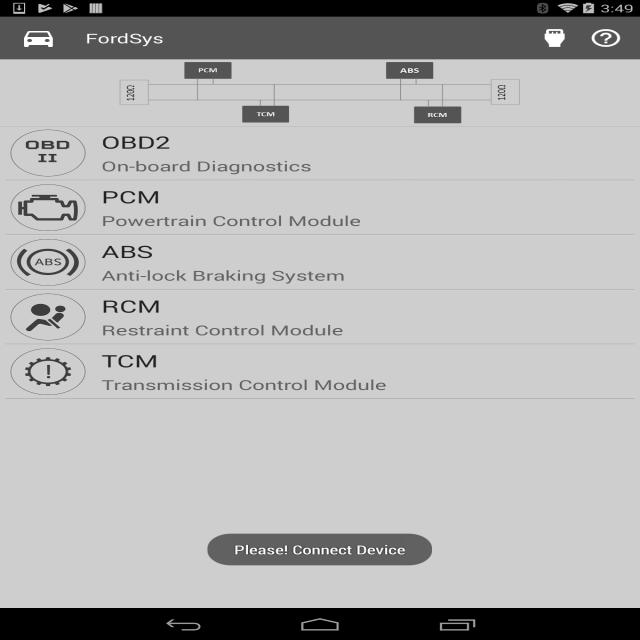ImageButton: (538, 28, 576, 56), (590, 25, 624, 50)
ImageView: (111, 61, 526, 126), (11, 127, 82, 173), (15, 187, 86, 226), (10, 244, 84, 280), (18, 298, 80, 334), (18, 355, 80, 388), (20, 29, 62, 51)
TextView: (95, 129, 321, 176), (100, 212, 367, 232), (100, 267, 350, 285), (98, 378, 394, 392), (82, 28, 170, 48), (98, 184, 167, 207), (98, 349, 163, 369), (100, 241, 161, 261)
